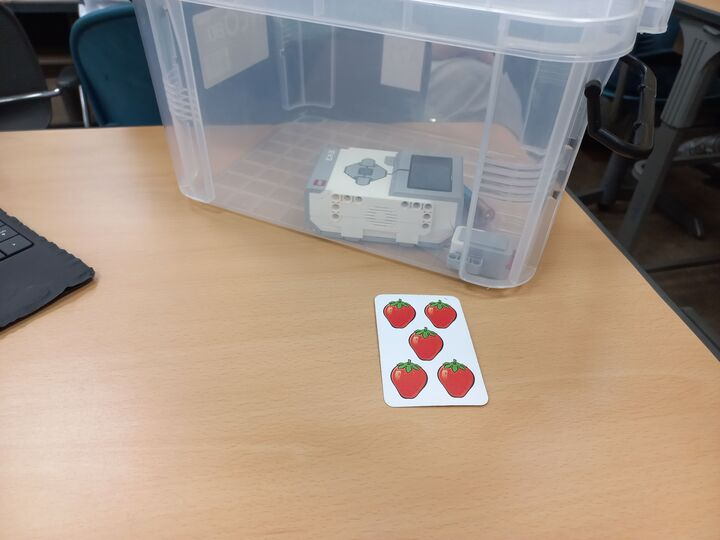strawberry5: (371, 291, 491, 409)
